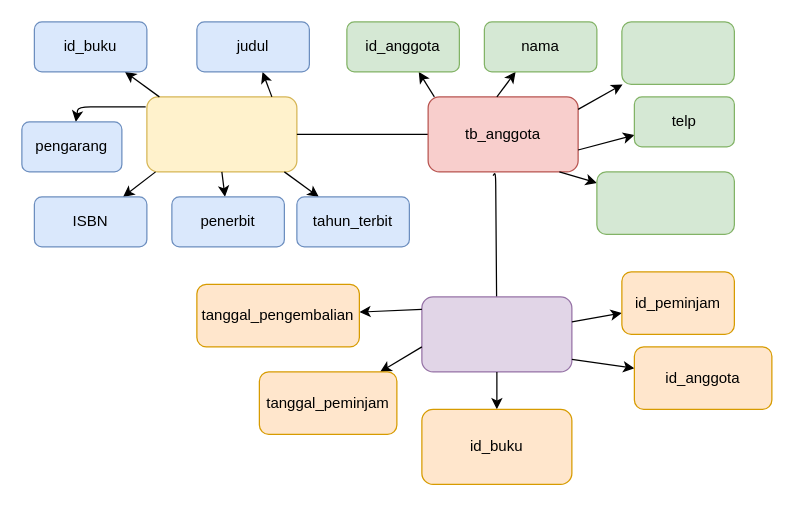
This 794x506 diagram has some shape labels left out. Here are the shapes that lost their labels. From the top down, the centre of each, then its label:
At (677,52): "alamat".
At (221,134): "tb_buku".
At (665,202): "tanggal_bergabung".
At (496,334): "tb_peminjam".
